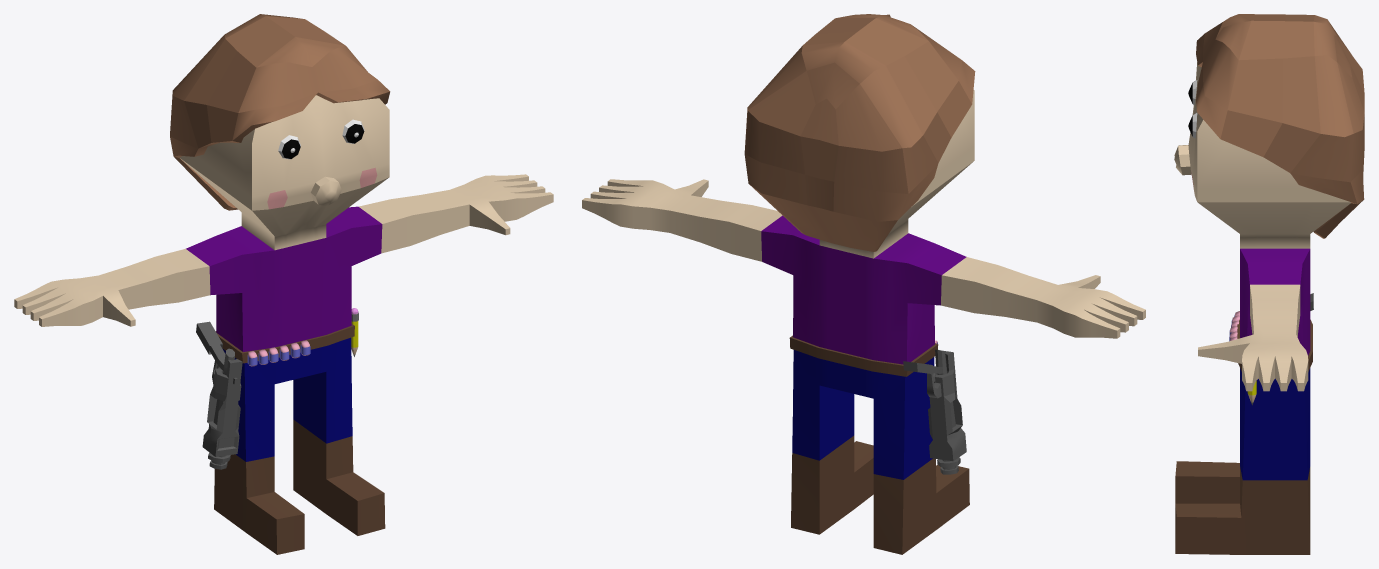
File: Overworld character.fbx
The picture shows the model from 3 angles, left to right: view 1: azimuth 30°, elevation 25°; view 2: azimuth 150°, elevation 25°; view 3: azimuth 270°, elevation 25°; orthographic projection. The views are drawn at different scales.
Parts seen in each view (by area): view 1: pasted__polySurface7; view 2: pasted__polySurface7; view 3: pasted__polySurface7.
Part boxes in pixels (x1=…): pasted__polySurface7: x1=14, y1=14, x2=553, y2=554; pasted__polySurface7: x1=582, y1=14, x2=1145, y2=554; pasted__polySurface7: x1=1174, y1=14, x2=1364, y2=554.
Bounding box in the file's own units: 9.66 × 8.65 × 2.94.
